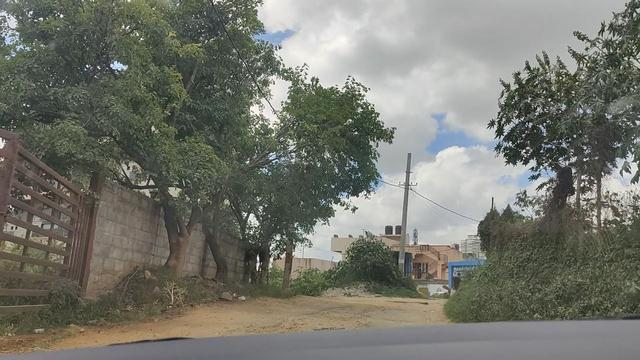RoadDamages: (260, 292, 401, 332)
